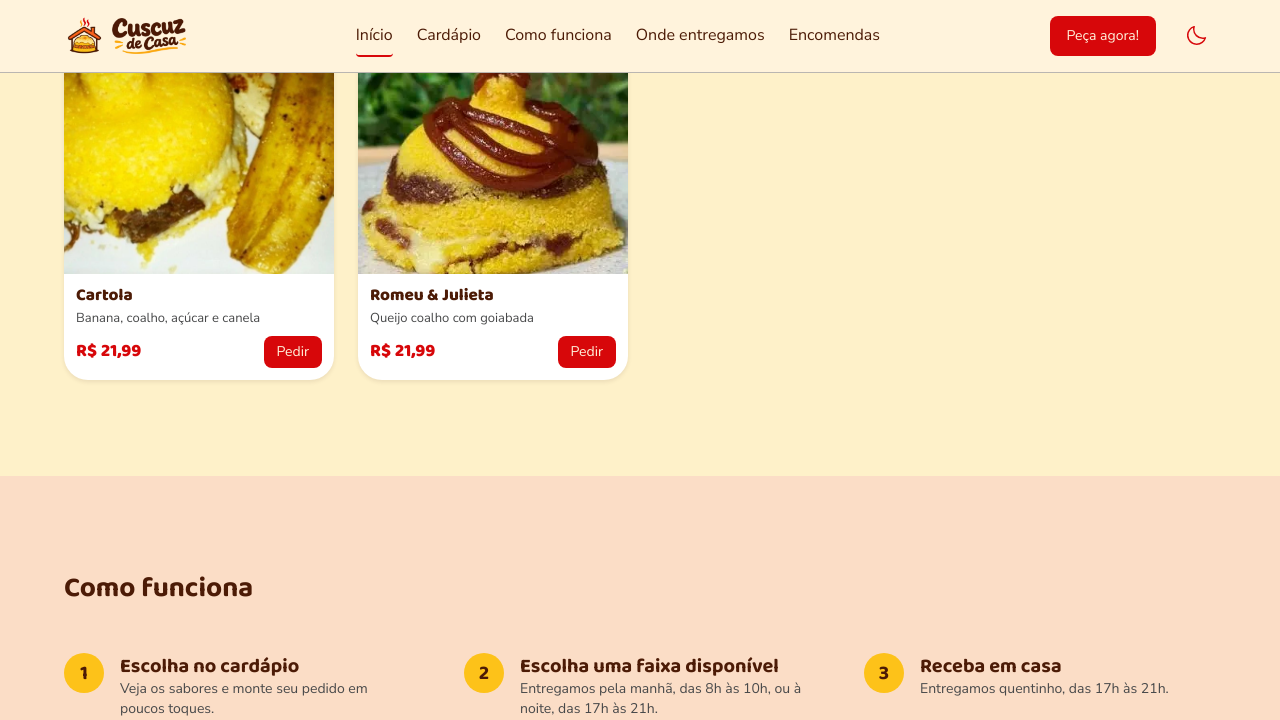
sequência do pedido: prato → capriche → bebida › doce não pede acompanhamento: 'Pedir' adiciona direto
The width and height of the screenshot is (1280, 720).
(page scrolled)
Click the button with aria-label "Pedir Cartola (cuscuz)": (293, 352) [264,336,322,368]
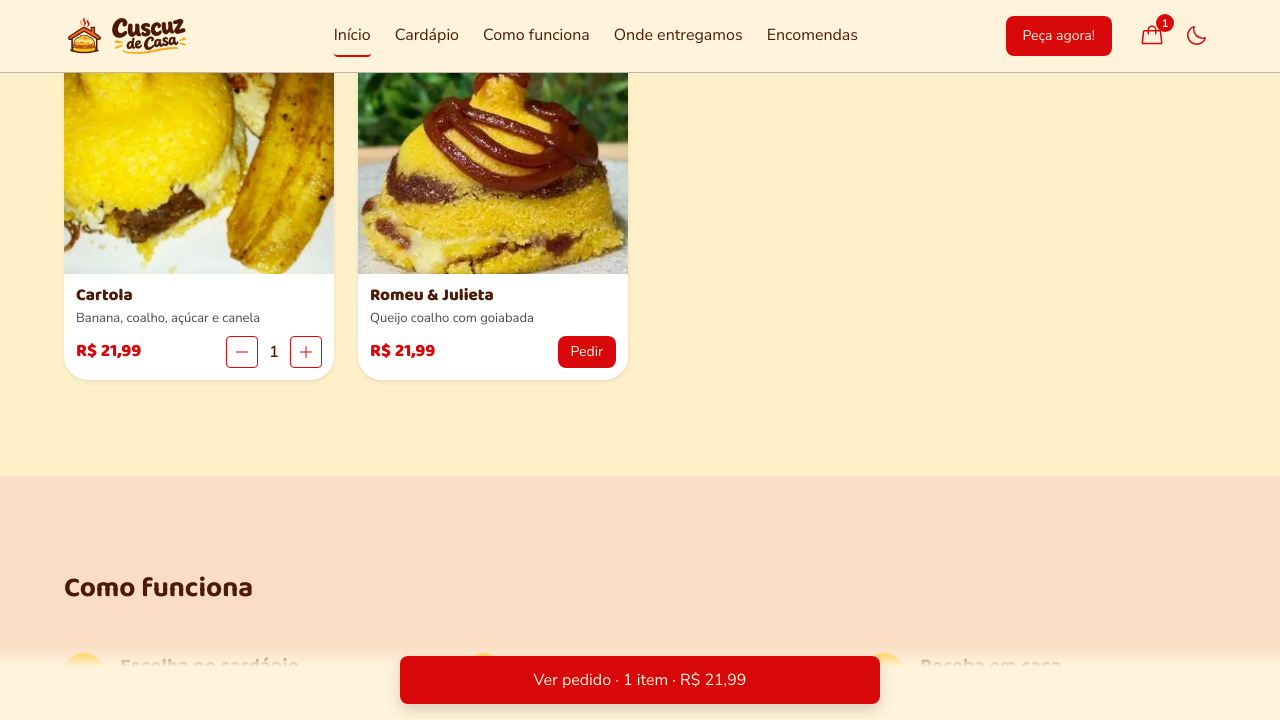
Now the text "1" below "Banana, coalho, açúcar e canela" is shown, box [269,341,279,363]
